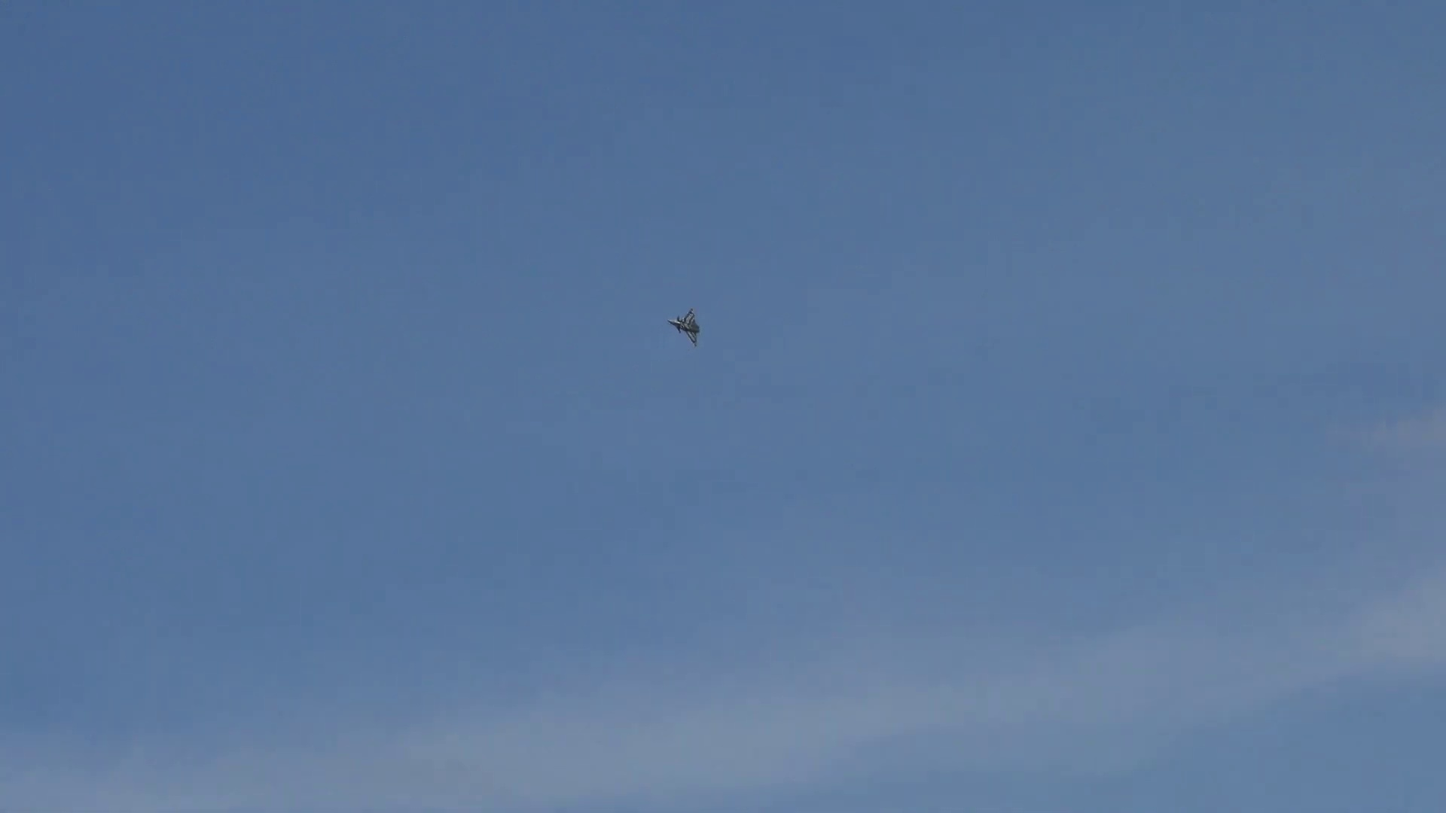Rafale: (665, 306, 703, 350)
